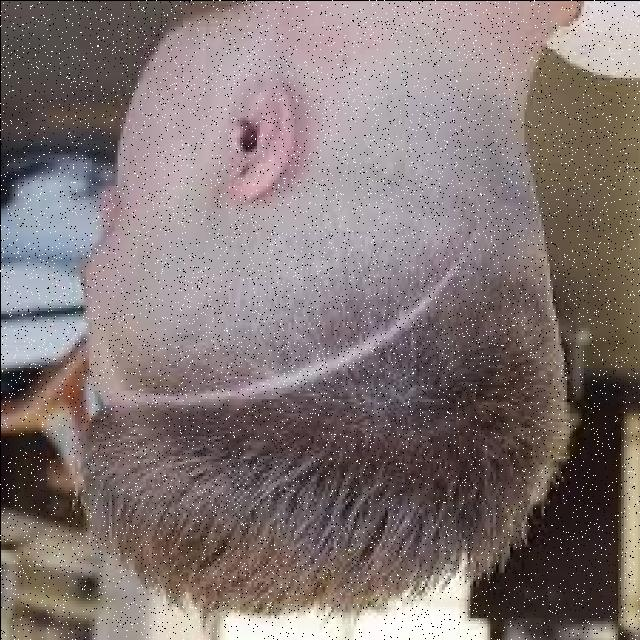Non_Helmet: (43, 29, 611, 631)
